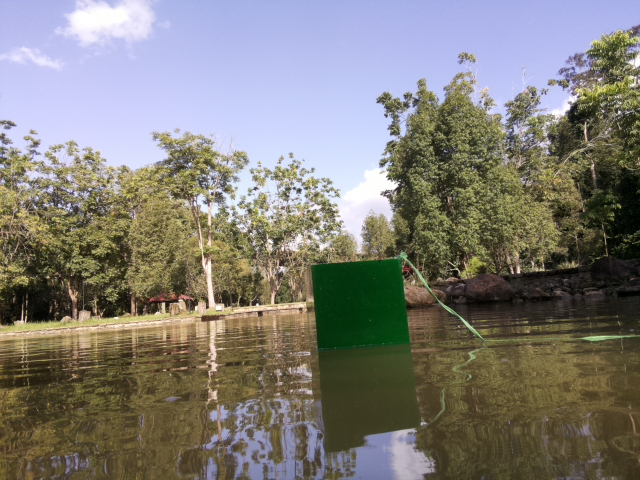obstacle: (305, 258, 413, 351)
